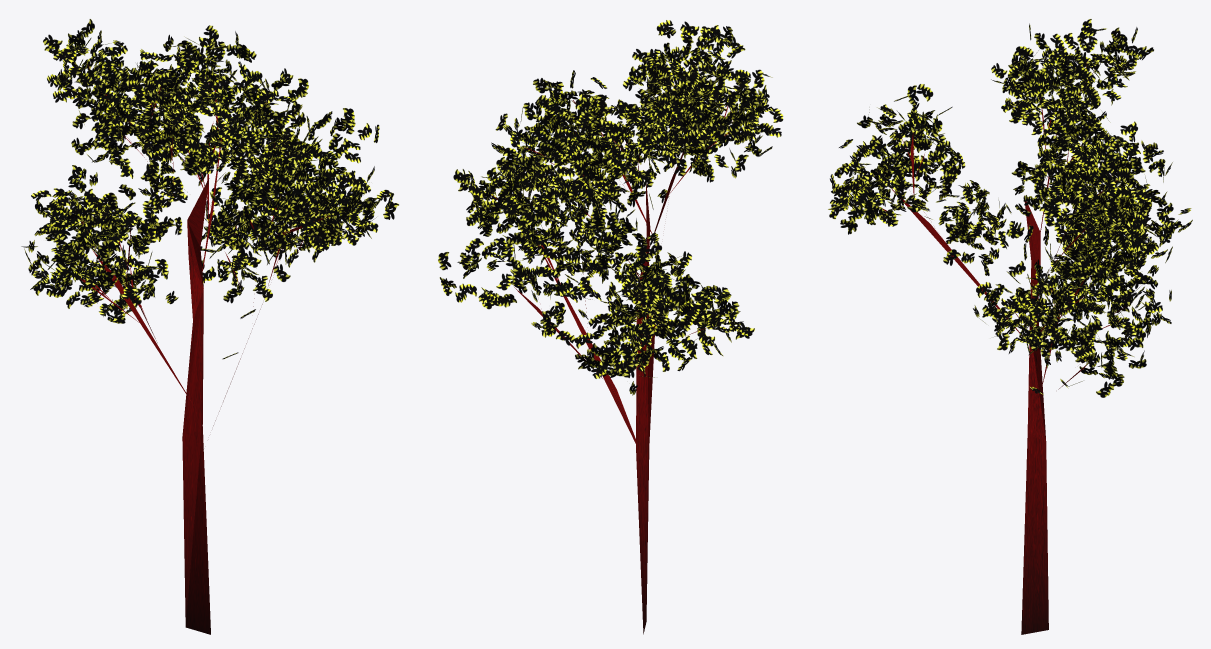
File: cottonwood_river_v02_LOD2.glb
3 renders of one model, left to right at view 1: azimuth 30°, elevation 25°; view 2: azimuth 150°, elevation 25°; view 3: azimuth 270°, elevation 25°, orthographic. The views are drawn at different scales.
Visible parts, largest first — view 1: cottonwood_river_v02_LOD2; view 2: cottonwood_river_v02_LOD2; view 3: cottonwood_river_v02_LOD2.
Part boxes in pixels (x1,y1,x2,y2): cottonwood_river_v02_LOD2: [21, 19, 398, 634]; cottonwood_river_v02_LOD2: [438, 20, 783, 634]; cottonwood_river_v02_LOD2: [828, 19, 1192, 634].
Bounding box in the file's own units: 19.66 × 33.95 × 20.07.
Materials: 2 (2 with a texture image).
